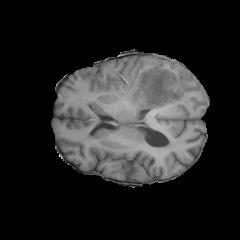glioma: (119, 60, 193, 112)
